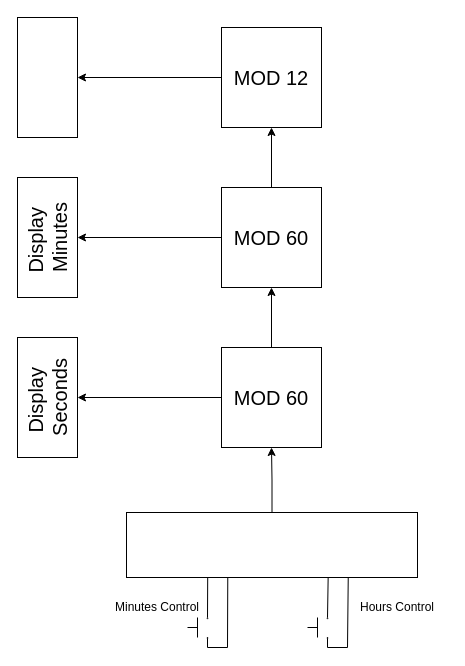
This 465x666 diagram has some shape labels left out. The centre of each missing label's shape, as x and y in pixels:
Display Hours: point (47, 77)
Pulse Generation: point (272, 545)
